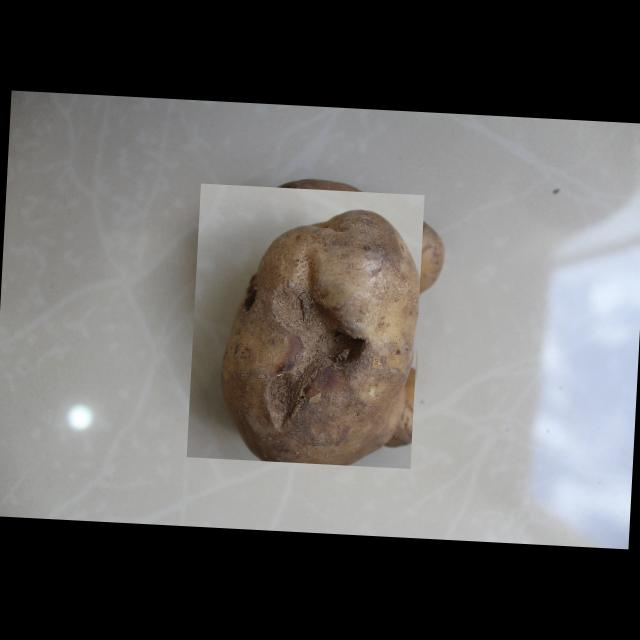Damaged potato: (186, 184, 424, 469)
